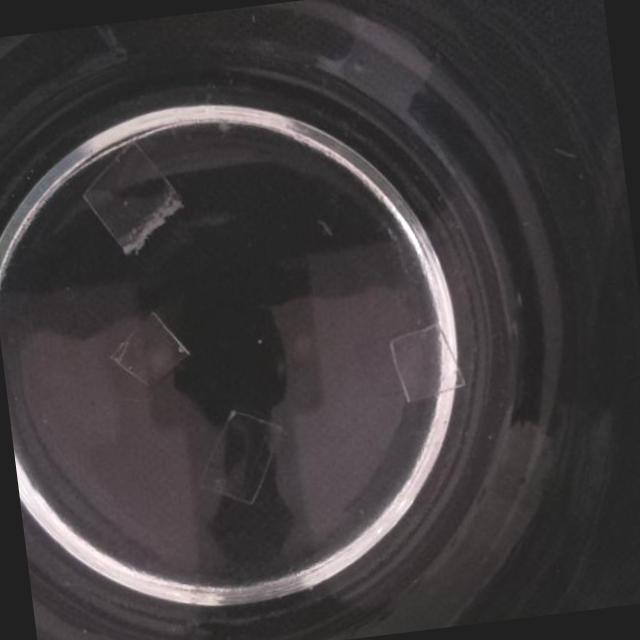fiber: (75, 133, 189, 260), (186, 402, 294, 509), (102, 306, 194, 390), (386, 318, 471, 405)
